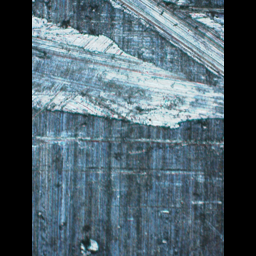d: (32, 0, 223, 134), (75, 225, 102, 255)
